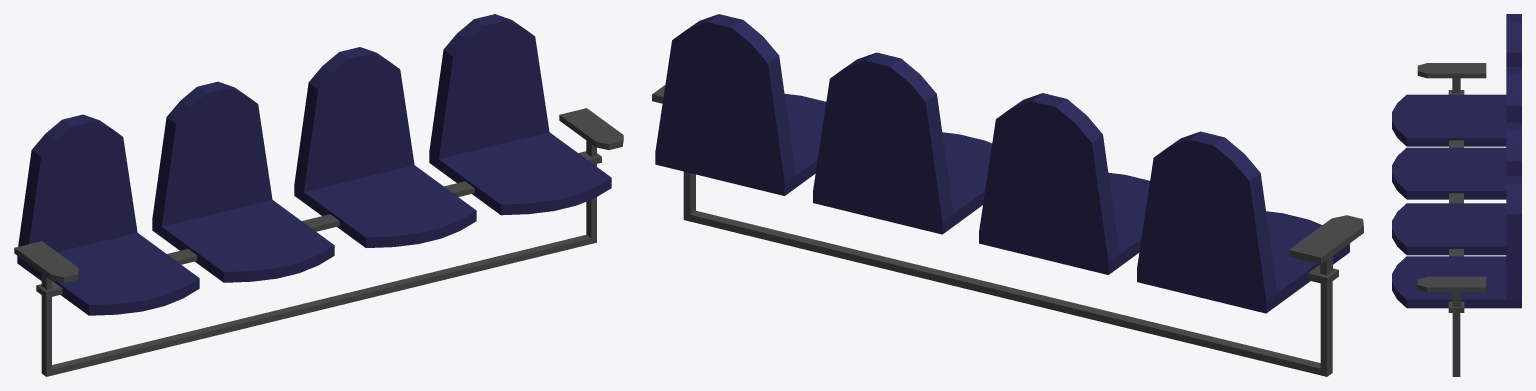
The model's file is ChairRow.fbx.
3 renders of one model, left to right at view 1: azimuth 30°, elevation 25°; view 2: azimuth 150°, elevation 25°; view 3: azimuth 270°, elevation 25°, orthographic. The views are drawn at different scales.
Visible parts, largest first — view 1: Plane.002; view 2: Plane.002; view 3: Plane.002.
Part boxes in pixels (x1,y1,x2,y2): Plane.002: (14,14,623,376); Plane.002: (652,14,1363,376); Plane.002: (1392,14,1521,376).
Bounding box in the file's own units: 1034 × 365 × 252.
